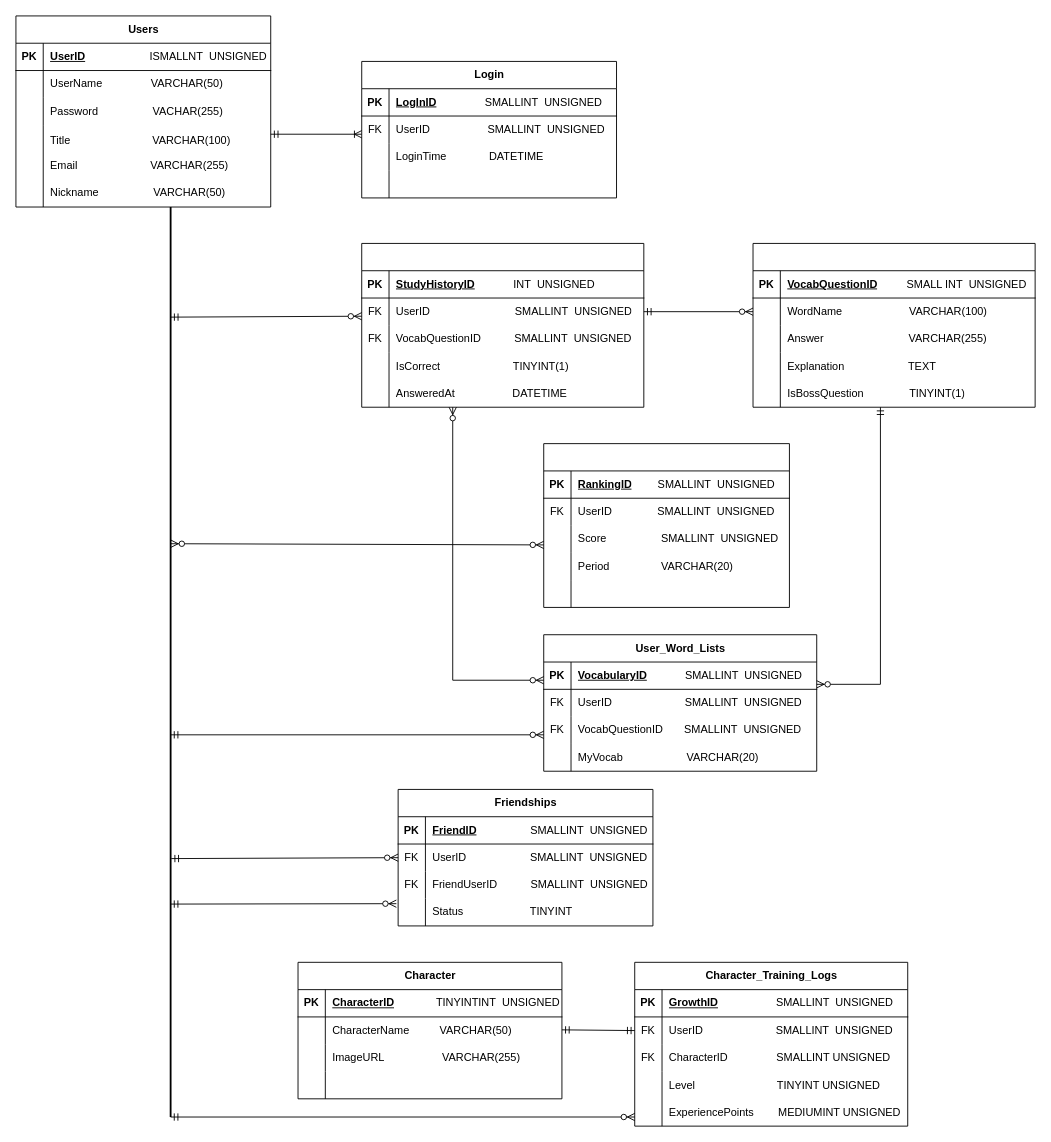
This 1051x1142 diagram has some shape labels left out. The box of each missing label's shape, as (x1, y1, x2, y2) in pixels:
Questions: (752, 243, 1035, 407)
Rankings: (543, 443, 789, 607)
Study_Logs: (361, 243, 644, 407)
